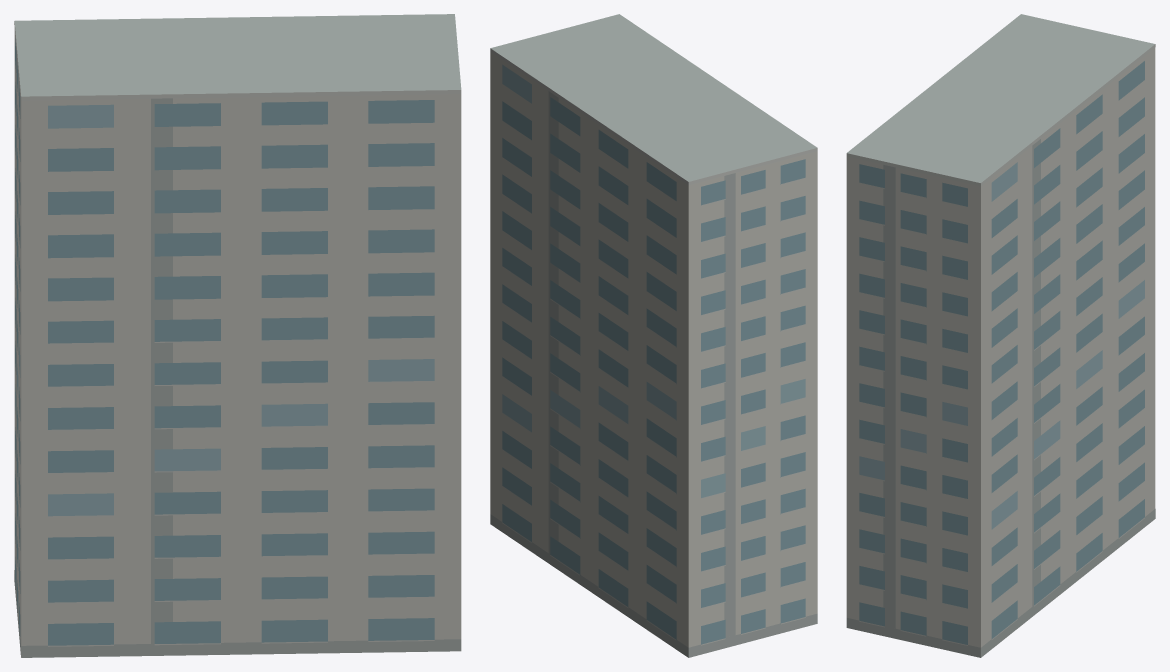
Rendered from residential-55df81c6-e0b7-47a3-ae16-d36a53ffc0a3.glb.
3 renders of one model, left to right at view 1: azimuth 30°, elevation 25°; view 2: azimuth 150°, elevation 25°; view 3: azimuth 270°, elevation 25°, orthographic. The views are drawn at different scales.
Visible parts, largest first — view 1: residential-55df81c6-e0b7-47a3-ae16-d36a53ffc0a3.tmp; view 2: residential-55df81c6-e0b7-47a3-ae16-d36a53ffc0a3.tmp; view 3: residential-55df81c6-e0b7-47a3-ae16-d36a53ffc0a3.tmp.
Boxes of the visible parts, x1,y1,x2,y2 form: residential-55df81c6-e0b7-47a3-ae16-d36a53ffc0a3.tmp: (14,14,461,657); residential-55df81c6-e0b7-47a3-ae16-d36a53ffc0a3.tmp: (490,14,817,657); residential-55df81c6-e0b7-47a3-ae16-d36a53ffc0a3.tmp: (846,14,1155,657).
Bounding box in the file's own units: 26 × 34 × 20.06.
